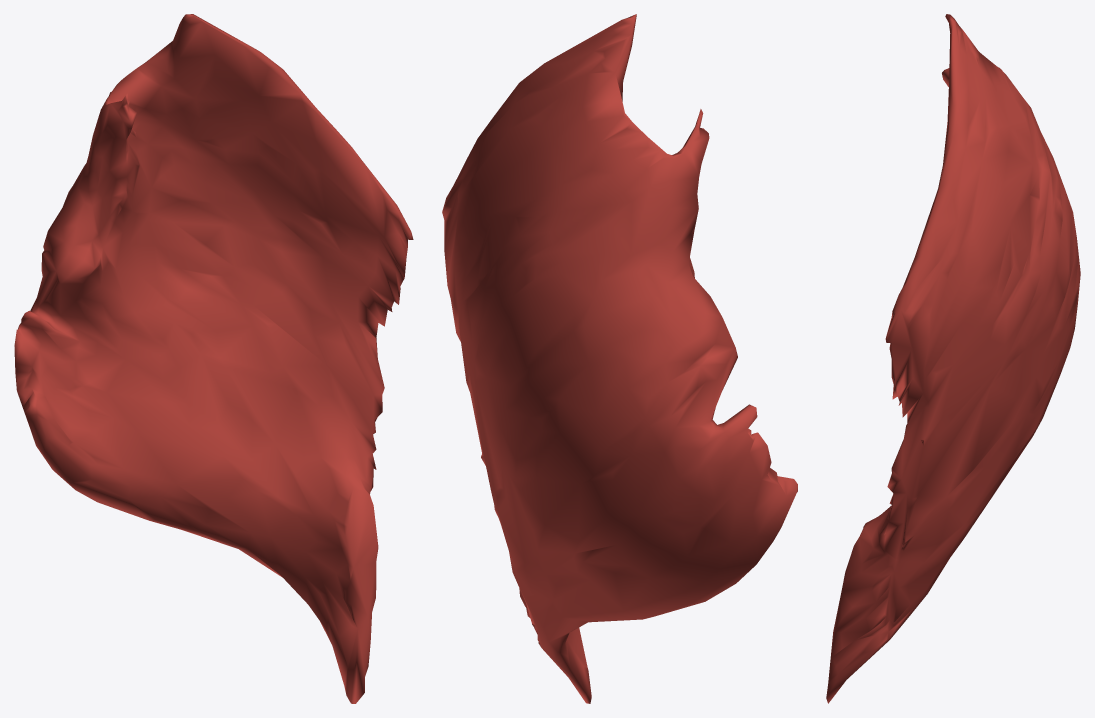
Rendered from musculos-gluteus-maximus-muscle-l.glb.
3 renders of one model, left to right at view 1: azimuth 30°, elevation 25°; view 2: azimuth 150°, elevation 25°; view 3: azimuth 270°, elevation 25°, orthographic. The views are drawn at different scales.
Parts seen in each view (by area): view 1: Gluteus maximus muscle.l; view 2: Gluteus maximus muscle.l; view 3: Gluteus maximus muscle.l.
Boxes of the visible parts, <box> form: Gluteus maximus muscle.l: <box>14,14,413,703</box>; Gluteus maximus muscle.l: <box>442,14,797,703</box>; Gluteus maximus muscle.l: <box>826,14,1080,703</box>.
Bounding box in the file's own units: 0.1454 × 0.2695 × 0.097.
